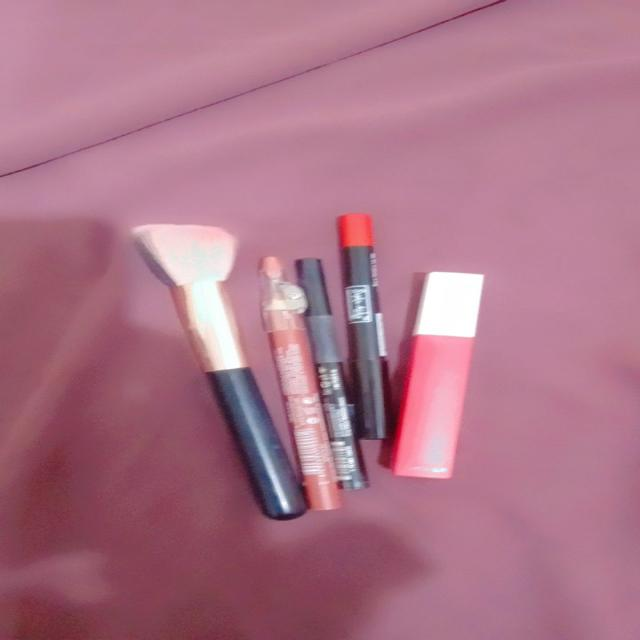brush: (117, 212, 250, 313)
lip gloss: (396, 262, 490, 484)
lip liner: (241, 247, 332, 499), (323, 197, 392, 463)
